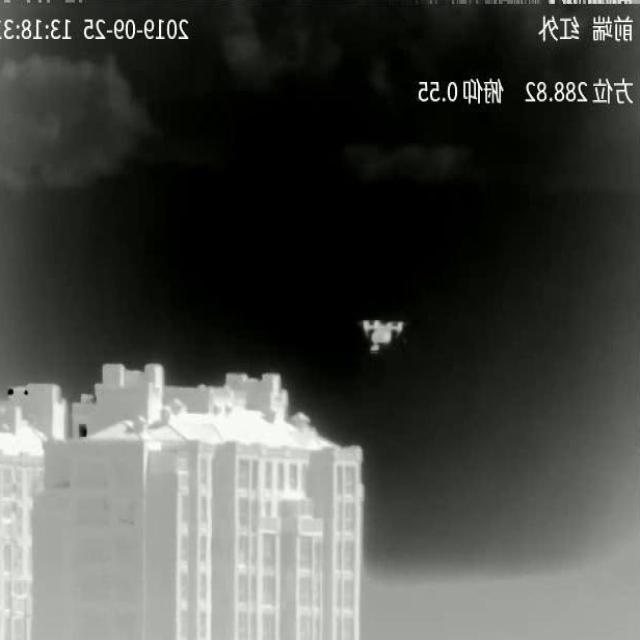drone: (362, 321, 404, 352)
